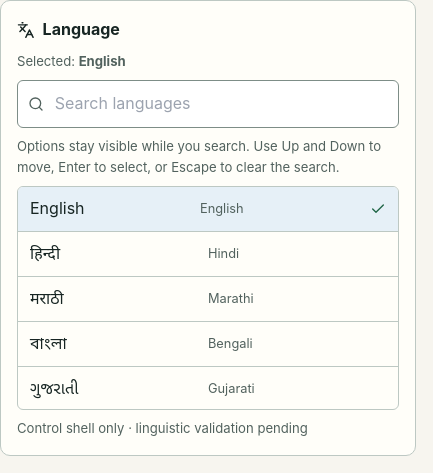
Test case: Civic Calm primitives › filters and selects native language names with the keyboard
The image size is (433, 473).
Type "Urdu" into the dropdown labelled "Language" at x=208, y=104, box [17,80,399,128]
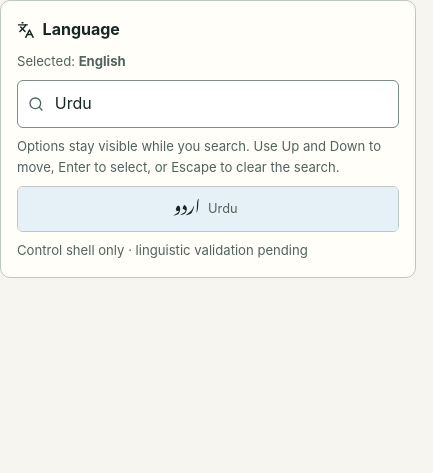
Press Enter in the dropdown labelled "Language", box [17,80,399,128]
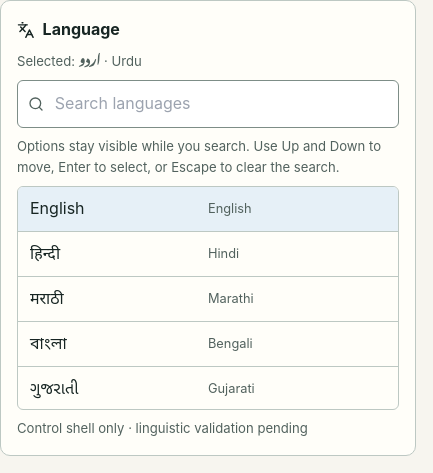
Expected: the text "Selected: اردو · Urdu" is shown, [17,53,142,69]
